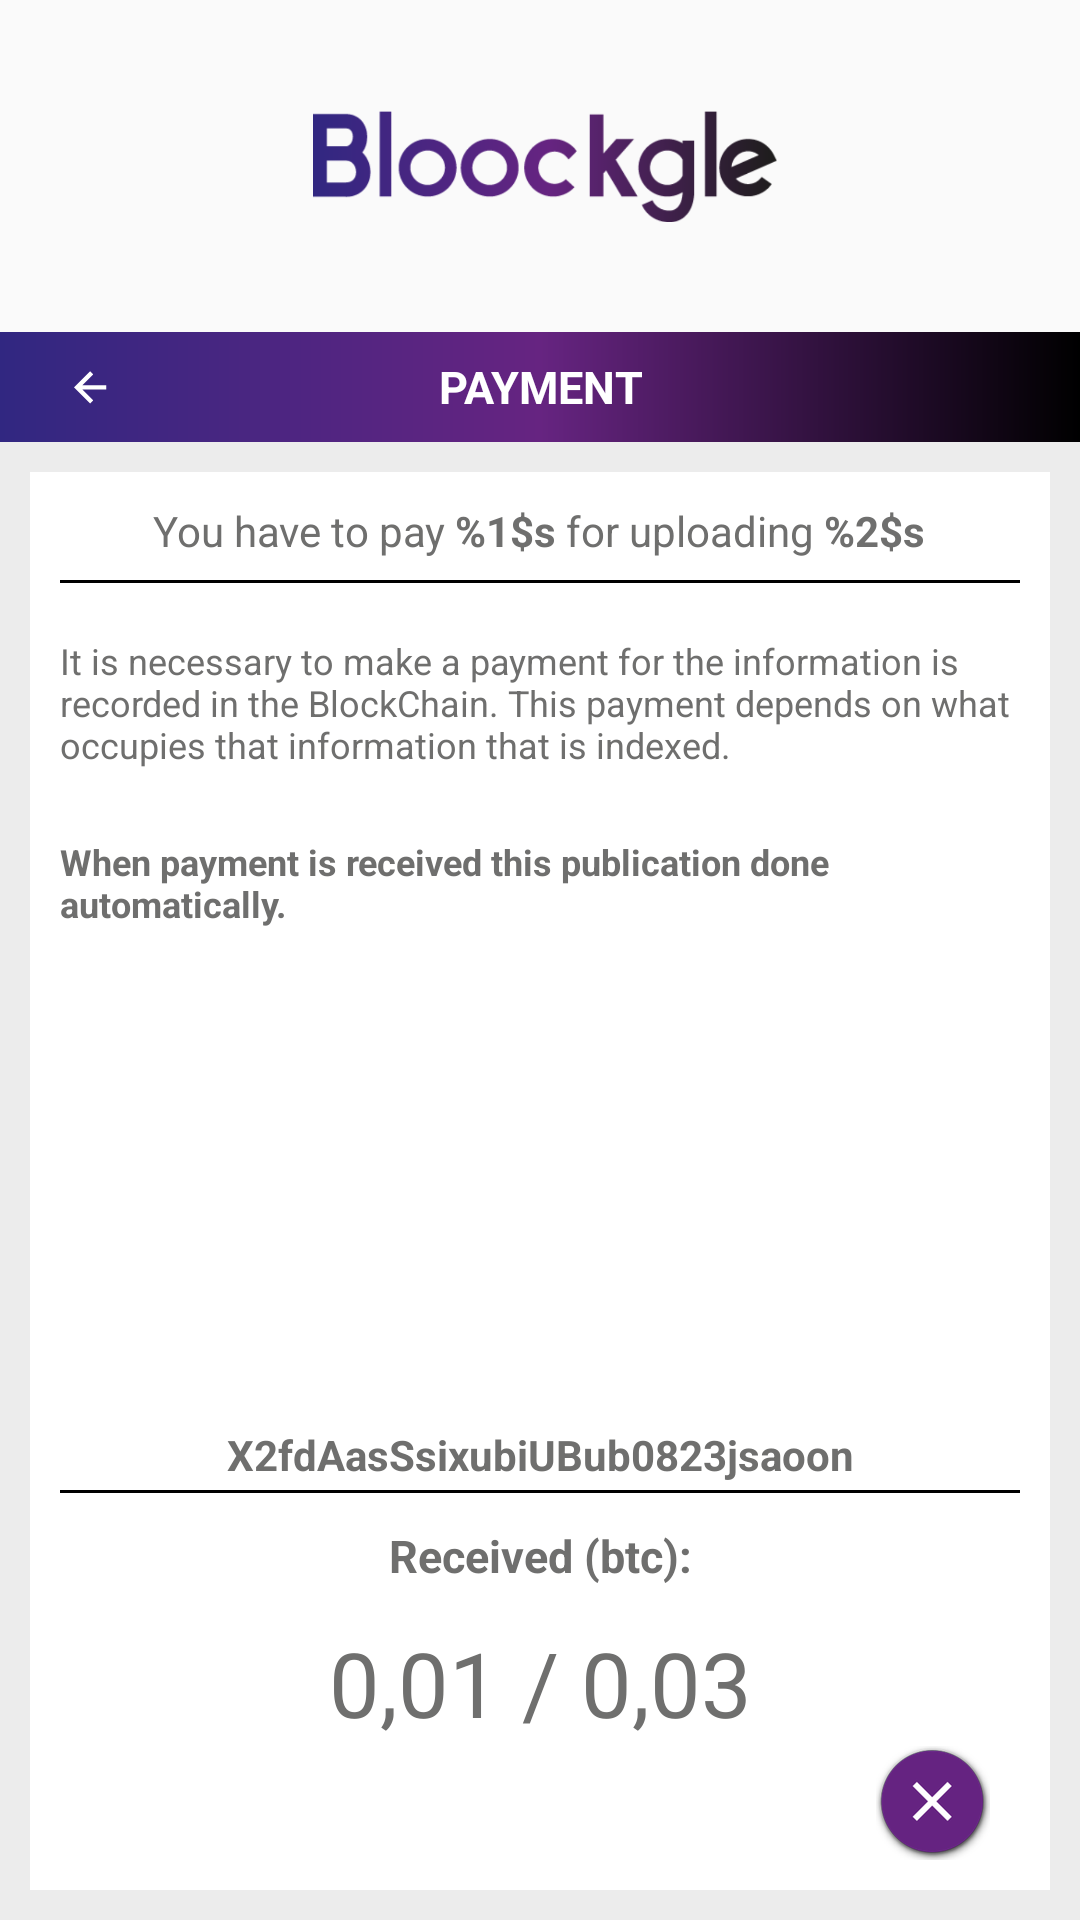

Point at icon controls on the screen. Image size 1080w x 1920h, points as (x=x, y=y).
cancel: (x=933, y=1803)
